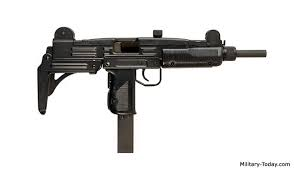gun: (35, 25, 267, 118)
